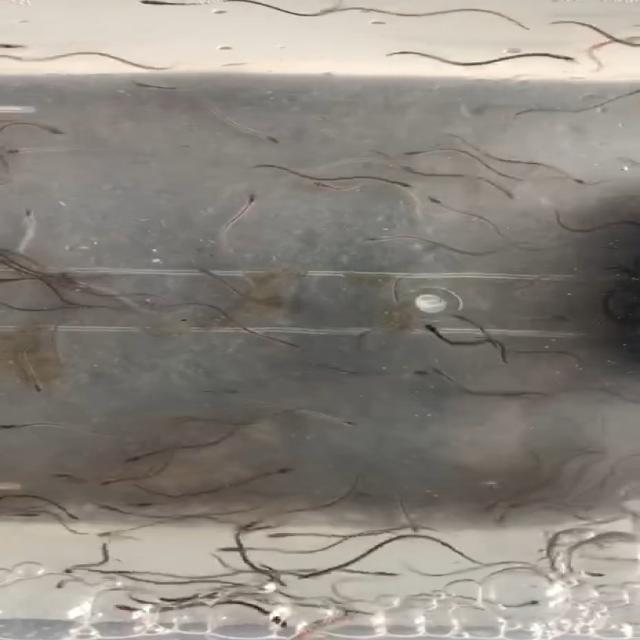active_glass_eel: (104, 598, 168, 616), (225, 188, 266, 212), (95, 525, 150, 539), (274, 338, 322, 354), (117, 448, 158, 466), (528, 310, 580, 324), (373, 176, 424, 190), (216, 540, 264, 554), (561, 169, 599, 186), (250, 464, 292, 479), (128, 0, 190, 10), (246, 132, 290, 146), (363, 230, 407, 244), (22, 375, 51, 396), (494, 186, 525, 205), (325, 414, 364, 429), (310, 177, 351, 191), (0, 144, 35, 160), (297, 622, 328, 640), (422, 321, 446, 343), (98, 475, 142, 487), (31, 120, 68, 134), (547, 51, 583, 65), (53, 572, 81, 590), (368, 564, 404, 578), (576, 564, 612, 578), (132, 78, 167, 92), (432, 365, 459, 383), (129, 496, 173, 507), (0, 36, 33, 50), (398, 145, 432, 158), (394, 368, 438, 378), (512, 596, 544, 609), (20, 202, 38, 225), (265, 529, 306, 539), (0, 421, 36, 432), (426, 196, 454, 210), (49, 471, 78, 484), (54, 508, 82, 521), (0, 275, 15, 285)
